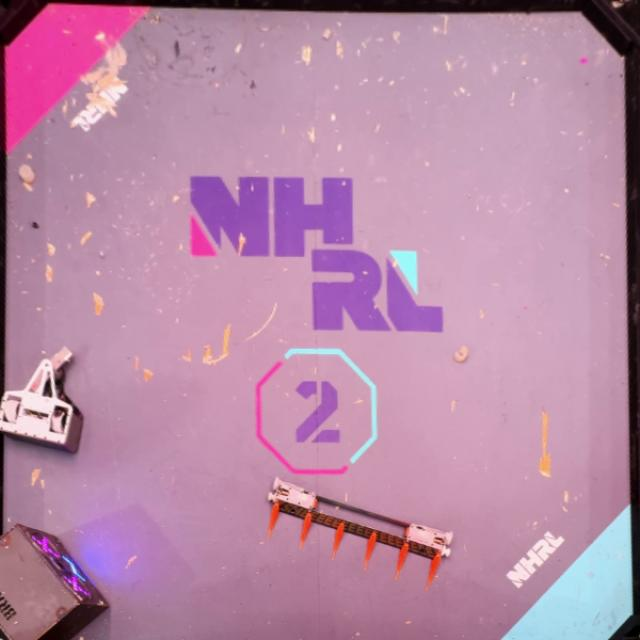housebot: (0, 524, 111, 640)
robot: (265, 477, 453, 584), (0, 346, 83, 456)
